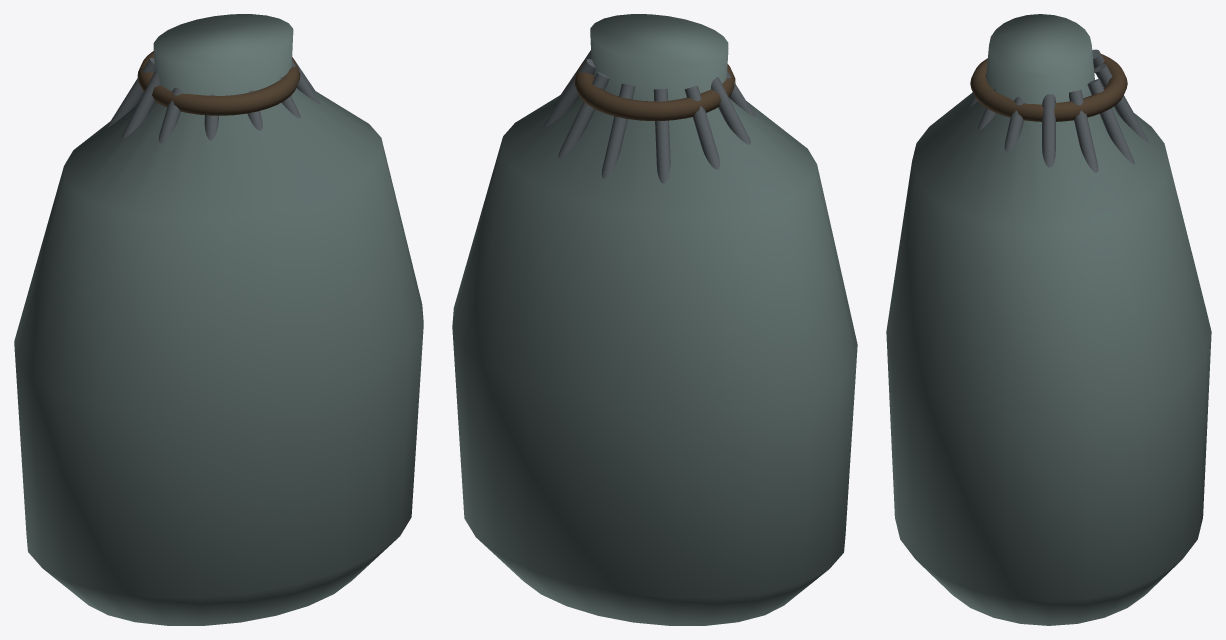
Rendered from coal_sack.glb.
The picture shows the model from 3 angles, left to right: view 1: azimuth 30°, elevation 25°; view 2: azimuth 150°, elevation 25°; view 3: azimuth 270°, elevation 25°; orthographic projection. The views are drawn at different scales.
Visible parts, largest first — view 1: Structure_Mesh; view 2: Structure_Mesh; view 3: Structure_Mesh.
Boxes of the visible parts, x1,y1,x2,y2 form: Structure_Mesh: [14, 14, 423, 625]; Structure_Mesh: [452, 14, 857, 625]; Structure_Mesh: [886, 14, 1211, 625].
Size of the model in its own units: 0.49 by 0.67 by 0.38.
